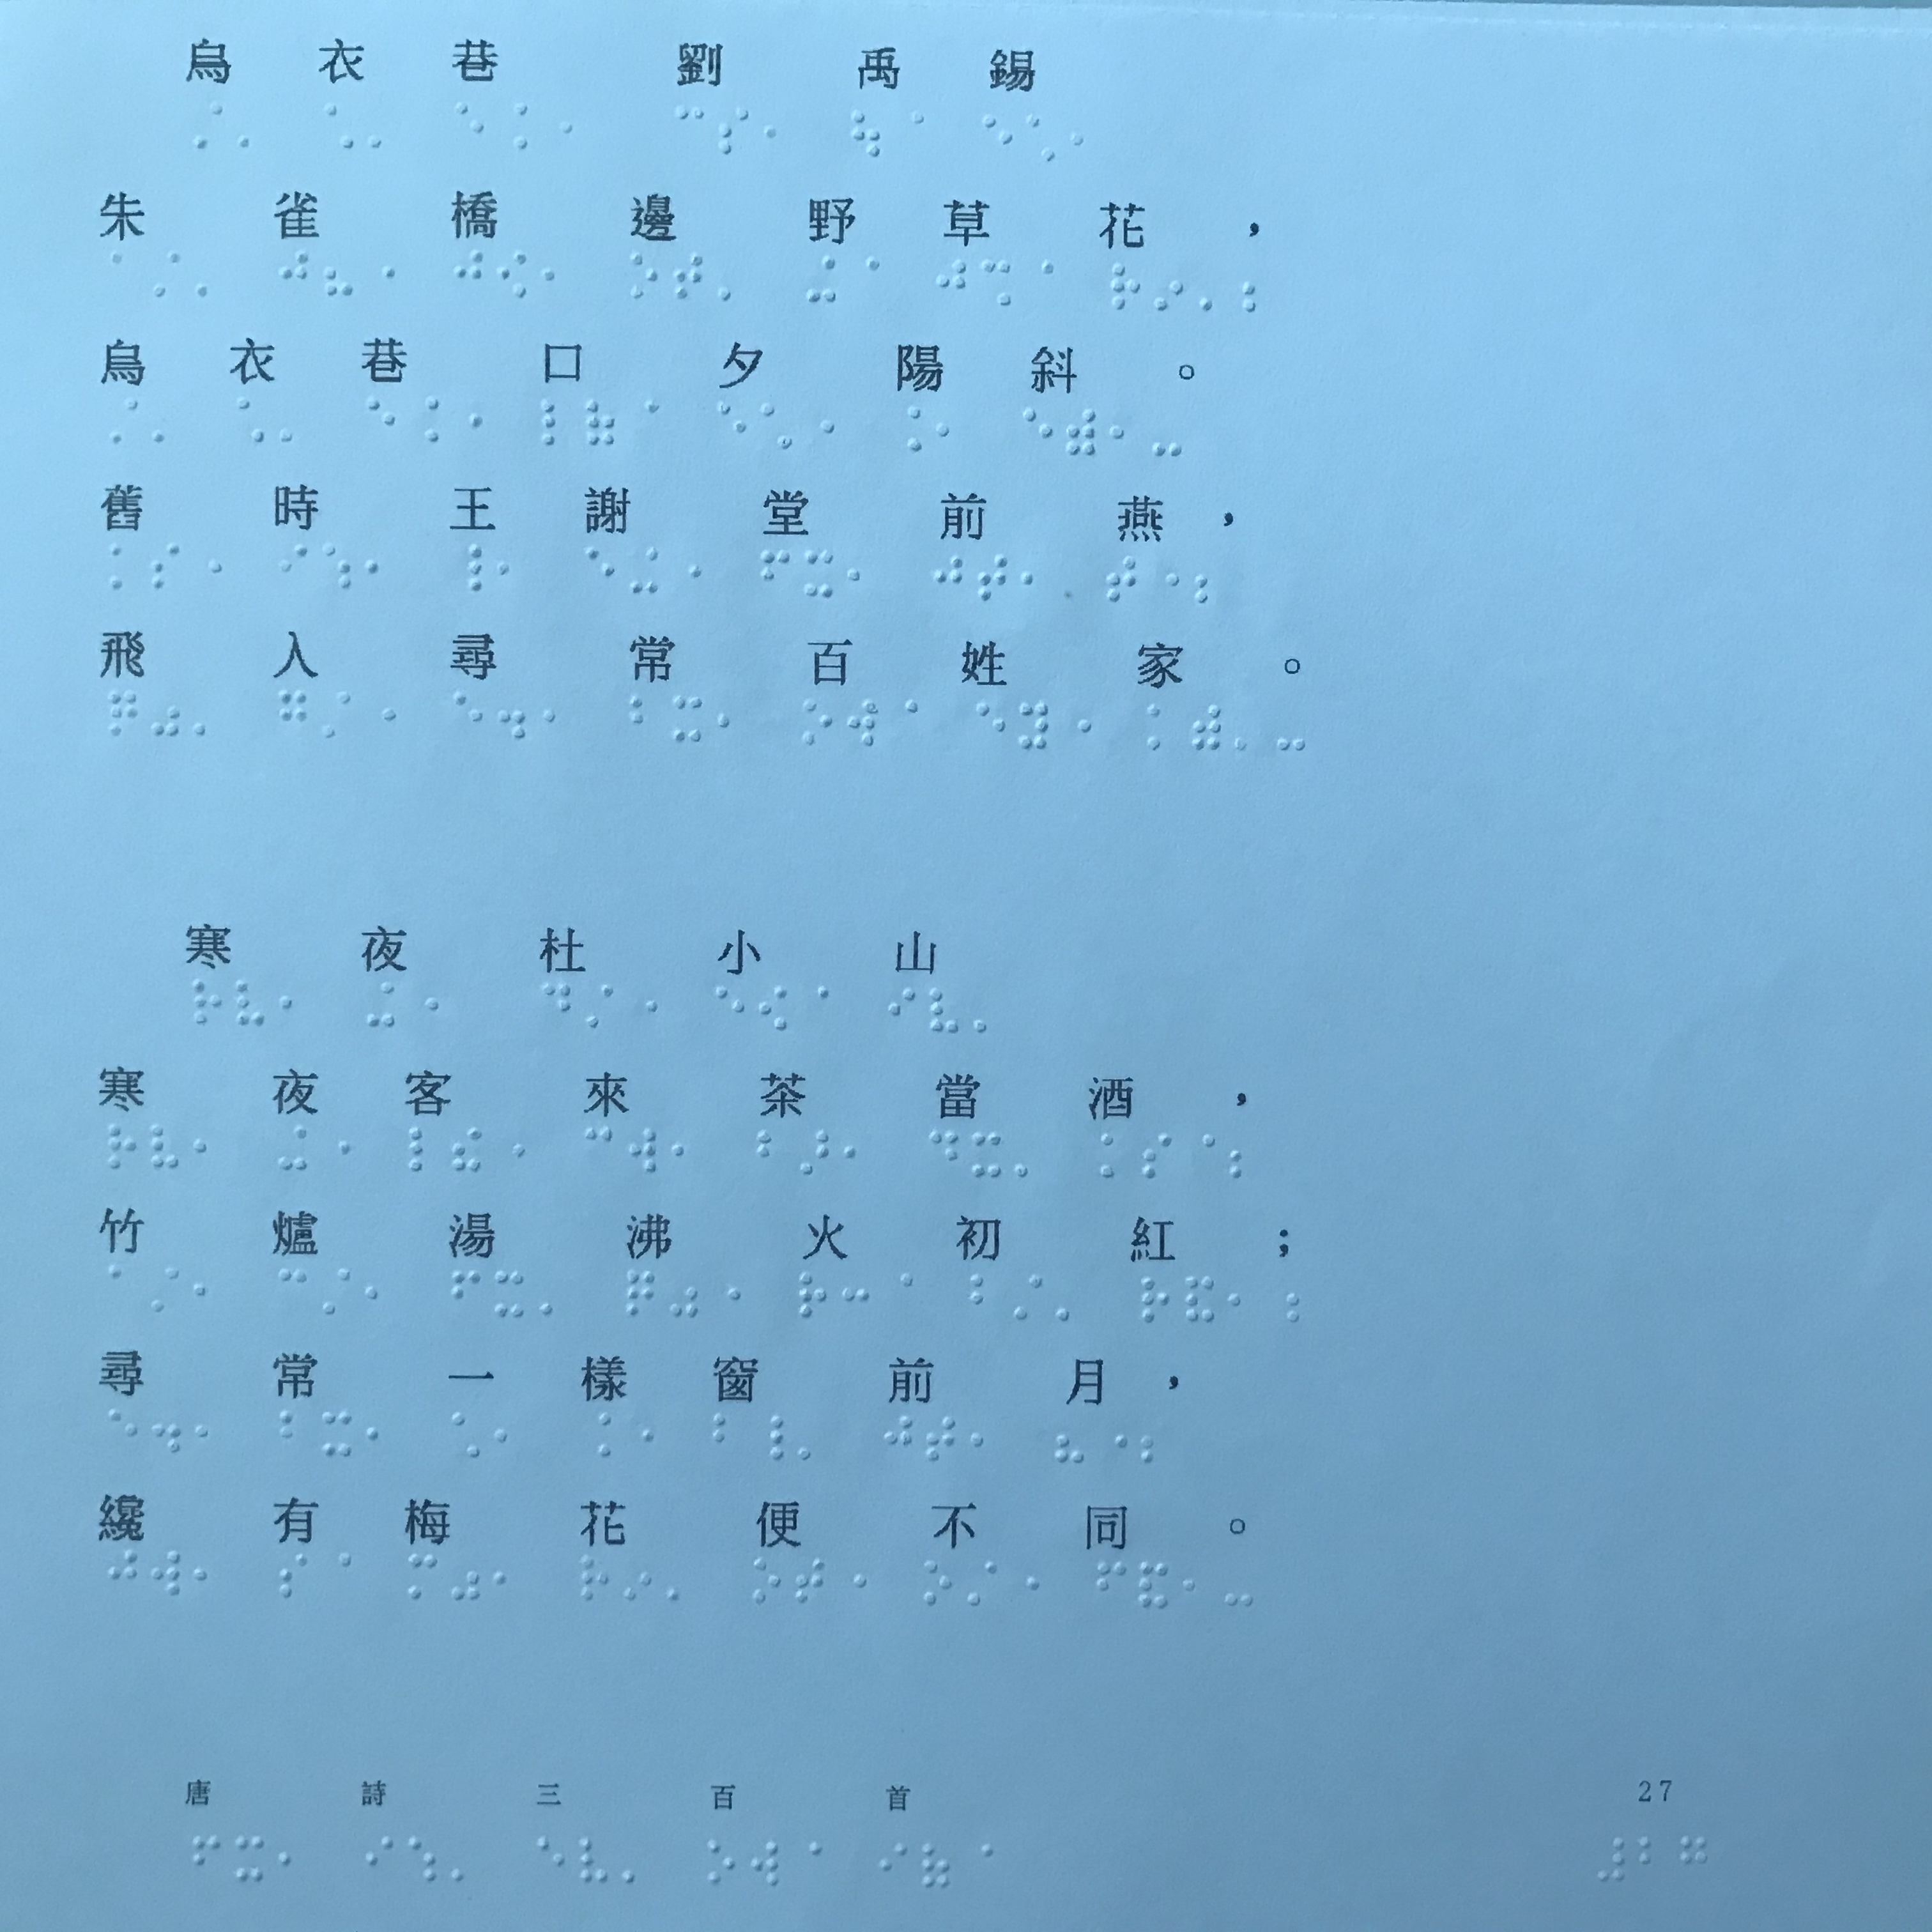Braille: (584, 396, 619, 451), (1065, 403, 1100, 458), (980, 111, 1014, 166), (1154, 407, 1187, 462), (1139, 1557, 1171, 1614), (497, 246, 531, 299), (278, 249, 311, 301), (1106, 552, 1139, 603), (1054, 1417, 1088, 1468), (676, 103, 708, 156), (1154, 258, 1185, 311), (890, 403, 922, 456), (149, 1120, 180, 1173), (750, 1555, 782, 1608), (968, 1555, 1000, 1608), (451, 1125, 485, 1175), (968, 1129, 1001, 1178), (1109, 258, 1139, 313), (366, 393, 396, 448), (761, 400, 791, 455), (922, 1555, 952, 1610), (853, 108, 885, 159), (672, 249, 704, 301), (715, 400, 747, 451), (1023, 407, 1054, 458), (975, 550, 1007, 602), (796, 1270, 828, 1322), (840, 1269, 872, 1320), (927, 1412, 959, 1463), (1010, 1559, 1042, 1610), (1095, 1559, 1127, 1610), (234, 1833, 265, 1884), (580, 1835, 612, 1886), (1598, 1833, 1629, 1884), (455, 688, 483, 745), (1028, 113, 1058, 166), (938, 255, 968, 308), (412, 393, 442, 446), (1019, 699, 1049, 752), (718, 106, 750, 156), (150, 398, 182, 448), (149, 540, 180, 589), (975, 697, 1007, 747), (191, 977, 223, 1026), (278, 1123, 310, 1173), (1143, 1129, 1175, 1178), (1097, 1419, 1129, 1468), (1139, 1417, 1171, 1467), (150, 1548, 182, 1598), (984, 255, 1012, 310), (538, 400, 571, 446), (322, 540, 352, 591), (805, 547, 835, 598), (108, 688, 138, 740), (1191, 702, 1221, 754), (800, 1125, 830, 1177), (968, 1272, 998, 1323), (1187, 1274, 1217, 1325), (885, 1412, 915, 1463), (970, 1412, 1000, 1463), (837, 1557, 867, 1608), (752, 1838, 782, 1890), (846, 699, 878, 747), (757, 985, 789, 1033), (1010, 1274, 1042, 1322), (1283, 1277, 1315, 1325), (934, 403, 962, 456), (676, 692, 704, 745), (237, 978, 265, 1031), (110, 248, 140, 297), (807, 255, 837, 304), (320, 688, 350, 738), (497, 692, 527, 741), (929, 987, 959, 1037), (191, 1122, 221, 1171), (320, 1267, 350, 1316), (495, 1269, 525, 1318), (621, 1555, 651, 1605), (922, 1842, 952, 1891), (632, 249, 660, 301), (1111, 407, 1139, 458), (632, 545, 660, 596), (108, 1118, 136, 1169), (108, 1403, 136, 1454), (324, 1408, 352, 1460), (451, 1412, 479, 1463), (757, 1412, 786, 1463), (409, 1550, 437, 1601), (451, 1550, 479, 1601), (580, 1553, 609, 1605), (663, 1555, 692, 1606), (849, 255, 879, 303), (847, 548, 878, 596), (801, 699, 832, 747), (628, 1125, 658, 1173), (150, 1265, 180, 1313), (278, 1267, 308, 1315), (628, 1269, 658, 1316), (669, 1272, 699, 1320), (1141, 1277, 1171, 1325), (150, 1408, 180, 1456), (1681, 1833, 1711, 1881), (106, 1550, 140, 1592), (1242, 262, 1269, 315), (456, 541, 483, 594), (276, 1553, 308, 1598), (1226, 1559, 1253, 1612), (326, 251, 354, 301), (455, 248, 483, 297), (111, 396, 140, 446), (455, 395, 483, 444), (805, 403, 833, 453), (934, 550, 962, 600), (1021, 550, 1049, 600), (1194, 554, 1223, 603), (322, 1125, 350, 1175), (759, 1127, 787, 1177), (1102, 1129, 1131, 1178), (191, 1267, 219, 1316), (364, 1410, 393, 1460), (494, 1412, 522, 1461), (796, 1555, 824, 1605), (407, 1835, 435, 1884), (193, 103, 223, 149), (368, 982, 398, 1028), (973, 987, 1003, 1033), (1187, 1132, 1217, 1178), (711, 1272, 741, 1318), (1058, 1277, 1088, 1323), (322, 1553, 352, 1599), (621, 1842, 651, 1888), (879, 1840, 909, 1886), (763, 108, 789, 159), (1070, 113, 1097, 165), (672, 1123, 699, 1175), (1184, 1557, 1208, 1612), (895, 111, 924, 159), (1026, 257, 1054, 304), (110, 541, 138, 589), (763, 548, 791, 596), (715, 985, 743, 1033), (110, 1265, 138, 1313), (598, 1412, 626, 1460), (715, 1412, 743, 1460), (706, 1842, 736, 1886), (791, 1842, 821, 1886), (964, 1842, 994, 1886), (239, 400, 265, 449), (364, 541, 391, 591), (152, 688, 179, 738), (281, 688, 308, 738), (640, 1412, 667, 1461), (632, 396, 660, 442), (1150, 554, 1178, 600), (1277, 708, 1306, 754), (541, 980, 570, 1026), (409, 1127, 437, 1173), (587, 1127, 616, 1173), (1014, 1134, 1042, 1180), (453, 1269, 481, 1315), (885, 1269, 913, 1315), (536, 1835, 564, 1881), (844, 1125, 869, 1177), (327, 101, 354, 149), (154, 249, 180, 297), (195, 543, 221, 591), (281, 540, 308, 587), (587, 547, 614, 594), (368, 690, 395, 738), (541, 694, 568, 741), (1148, 702, 1175, 750), (278, 978, 304, 1026), (586, 980, 612, 1028), (499, 1129, 525, 1177), (1230, 1277, 1256, 1325), (196, 1408, 223, 1456), (278, 1408, 304, 1456), (1640, 1833, 1667, 1881), (239, 104, 267, 149), (196, 253, 225, 297), (890, 699, 918, 743), (410, 984, 439, 1028), (628, 982, 656, 1026), (888, 989, 916, 1033), (931, 1129, 959, 1173), (538, 1272, 566, 1316), (798, 1415, 826, 1460), (193, 1833, 221, 1877), (718, 695, 743, 745), (364, 1269, 389, 1318), (366, 103, 393, 149), (718, 255, 745, 301), (495, 545, 522, 591), (1063, 701, 1090, 747), (366, 1833, 393, 1879), (630, 695, 658, 738), (278, 1838, 306, 1881), (458, 101, 483, 149), (502, 101, 527, 149), (676, 547, 701, 594), (494, 1553, 518, 1601), (278, 400, 304, 444), (803, 985, 830, 1030), (1231, 1134, 1258, 1178), (1200, 265, 1224, 311), (370, 253, 395, 297), (193, 692, 218, 736), (1233, 708, 1258, 752), (195, 1553, 219, 1598), (547, 103, 571, 145), (451, 1842, 476, 1884), (543, 255, 566, 297)
